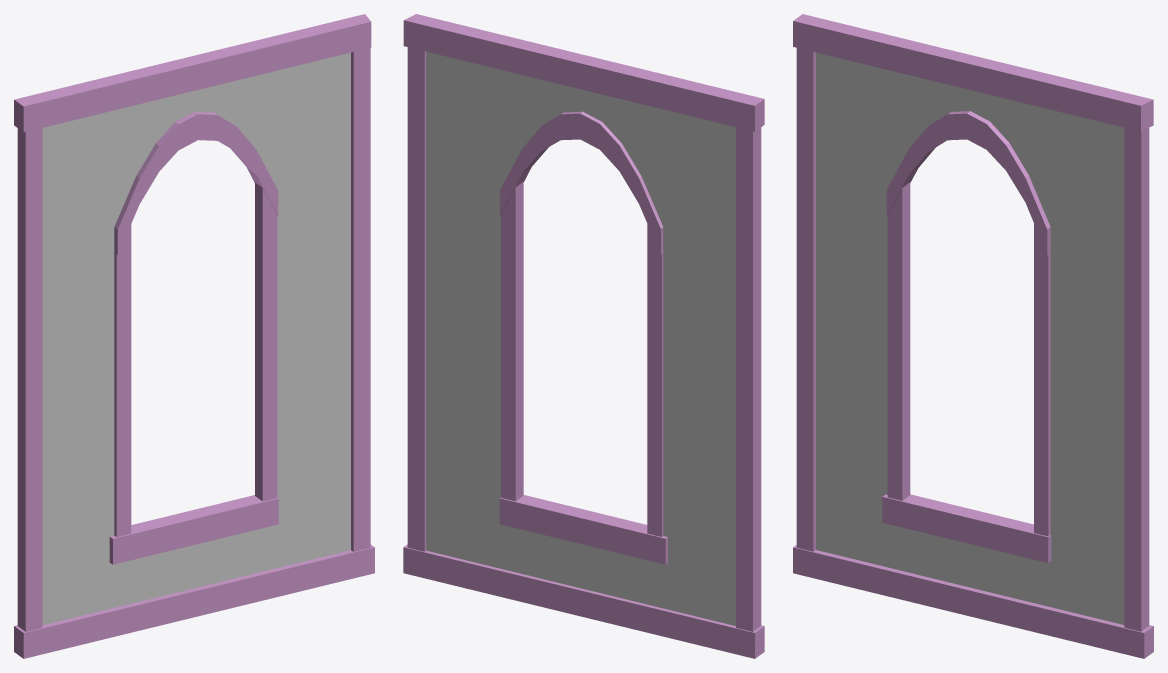
Rendered from SingleArchedWindow.fbx.
The picture shows the model from 3 angles, left to right: view 1: azimuth 30°, elevation 25°; view 2: azimuth 150°, elevation 25°; view 3: azimuth 330°, elevation 25°; orthographic projection.
Parts seen in each view (by area): view 1: Wall_LOD0; view 2: Wall_LOD0; view 3: Wall_LOD0.
Boxes of the visible parts, bbox=[...] form: Wall_LOD0: bbox=[14, 14, 374, 658]; Wall_LOD0: bbox=[403, 14, 764, 658]; Wall_LOD0: bbox=[793, 14, 1153, 658].
Size of what is drawn, in the model's own units: 140 by 210 by 6.96.
